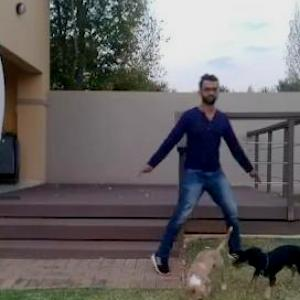land: (133, 85, 252, 280)
